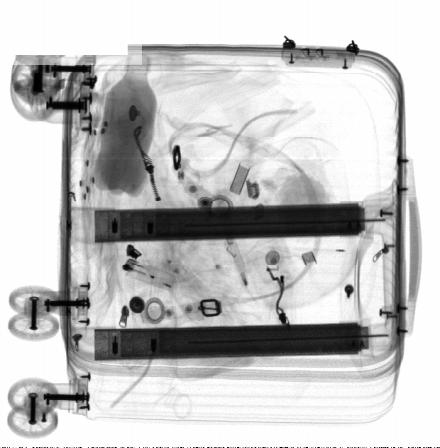Lighter: (122, 258, 176, 293)
